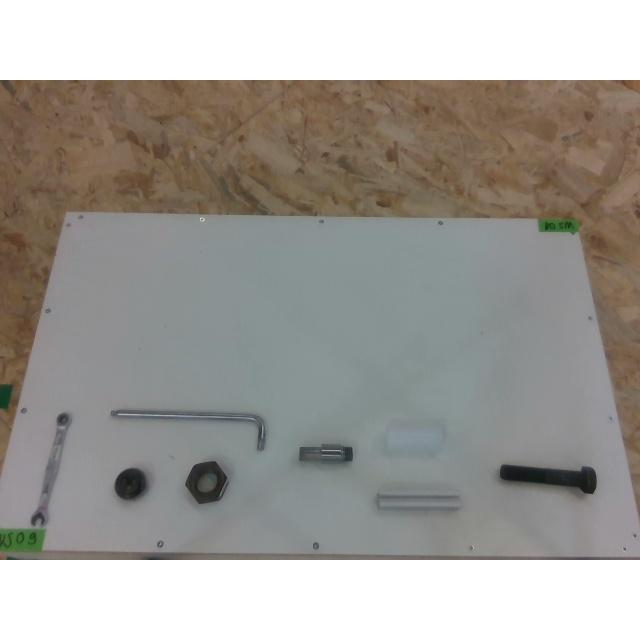AllenKey: (110, 409, 266, 451)
Axis2: (298, 442, 354, 462)
Bearing2: (114, 468, 146, 500)
F20_20_G: (376, 488, 460, 510)
M20_100: (499, 463, 596, 492)
M30: (185, 461, 228, 504)
Spacer: (384, 419, 444, 456)
Wrench: (30, 412, 70, 528)
